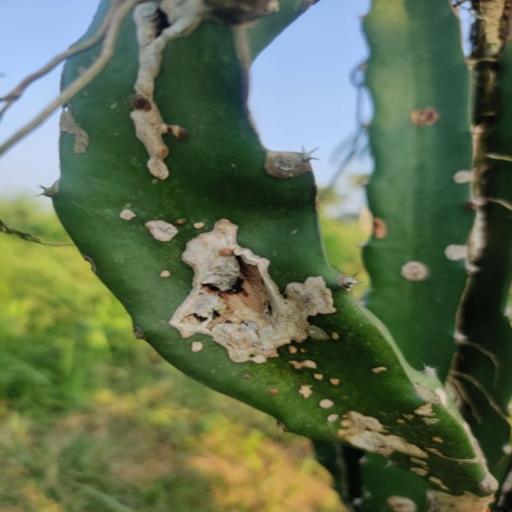stemcanker: (92, 68, 150, 186), (387, 374, 476, 447), (290, 372, 366, 434), (215, 152, 281, 212), (354, 341, 399, 400), (272, 342, 336, 374), (402, 457, 450, 498), (401, 238, 433, 298), (349, 478, 402, 512), (273, 216, 311, 262), (111, 192, 154, 232), (372, 480, 424, 512), (172, 328, 220, 358), (165, 208, 222, 233), (148, 262, 186, 298), (400, 106, 440, 137), (430, 238, 462, 276), (261, 378, 289, 417), (440, 168, 482, 192)
